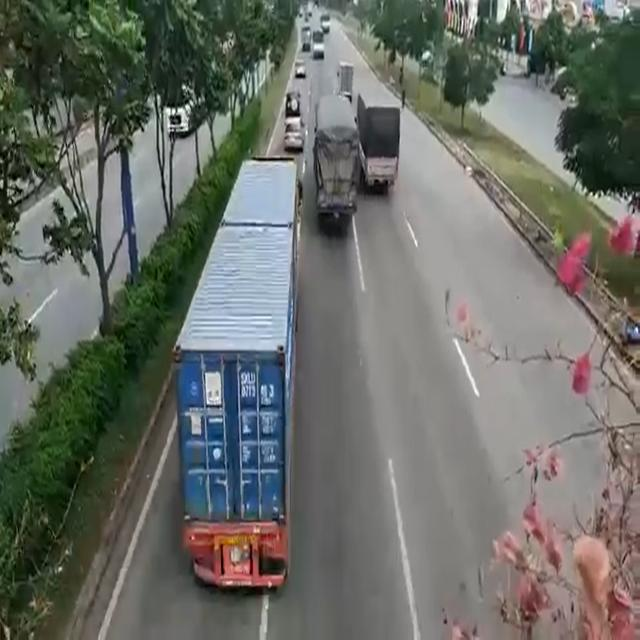car: (286, 114, 305, 150), (285, 89, 300, 111)
truck: (176, 157, 302, 588), (344, 62, 402, 185), (319, 96, 355, 228)
